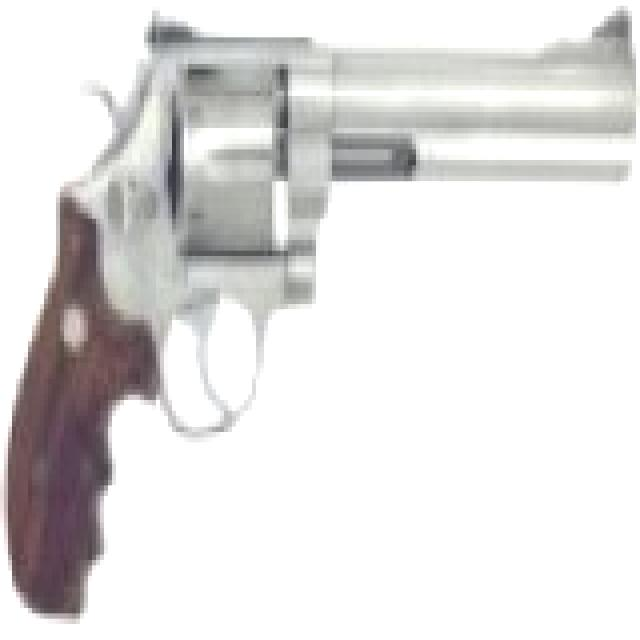pistol: (28, 0, 636, 613)
